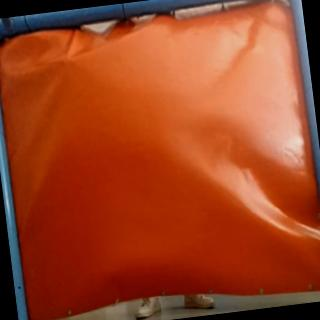Hit-hRxx: (58, 53, 77, 66)
